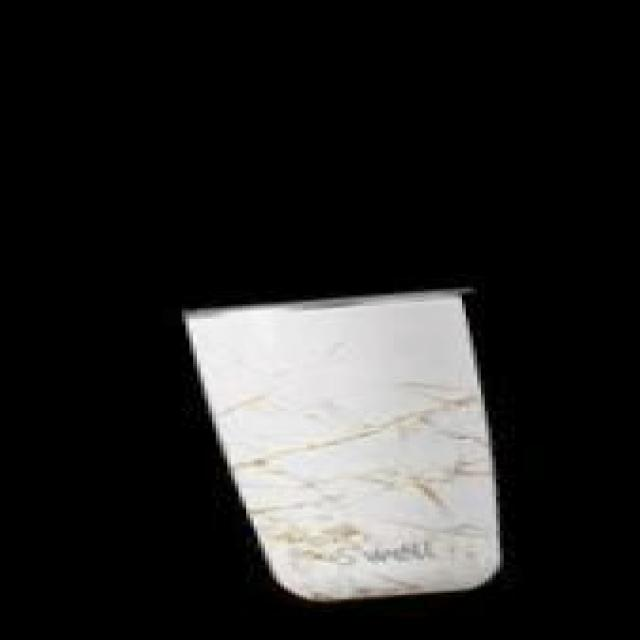bottle: (170, 266, 557, 614)
